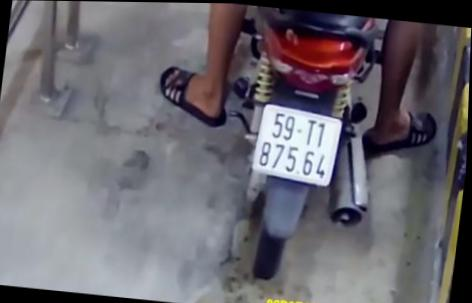LP: (250, 99, 346, 187)
